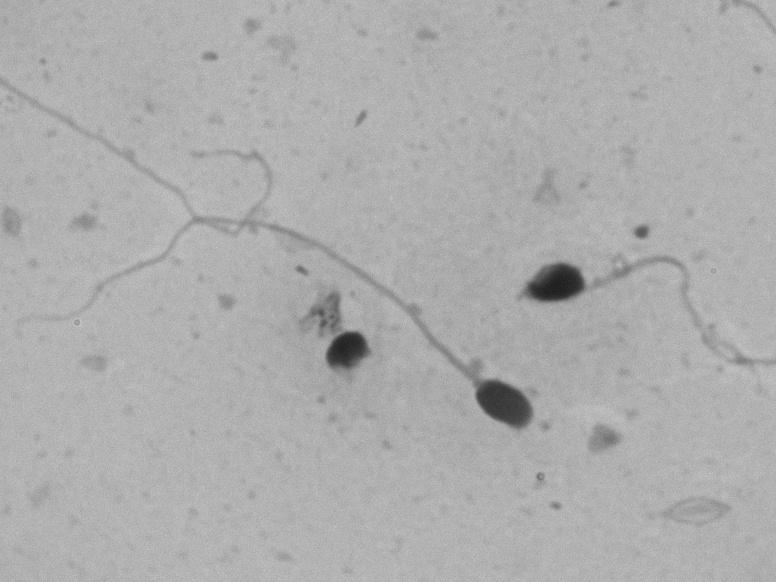Abnormal: (502, 195, 762, 359)
Normal: (10, 203, 543, 449)
